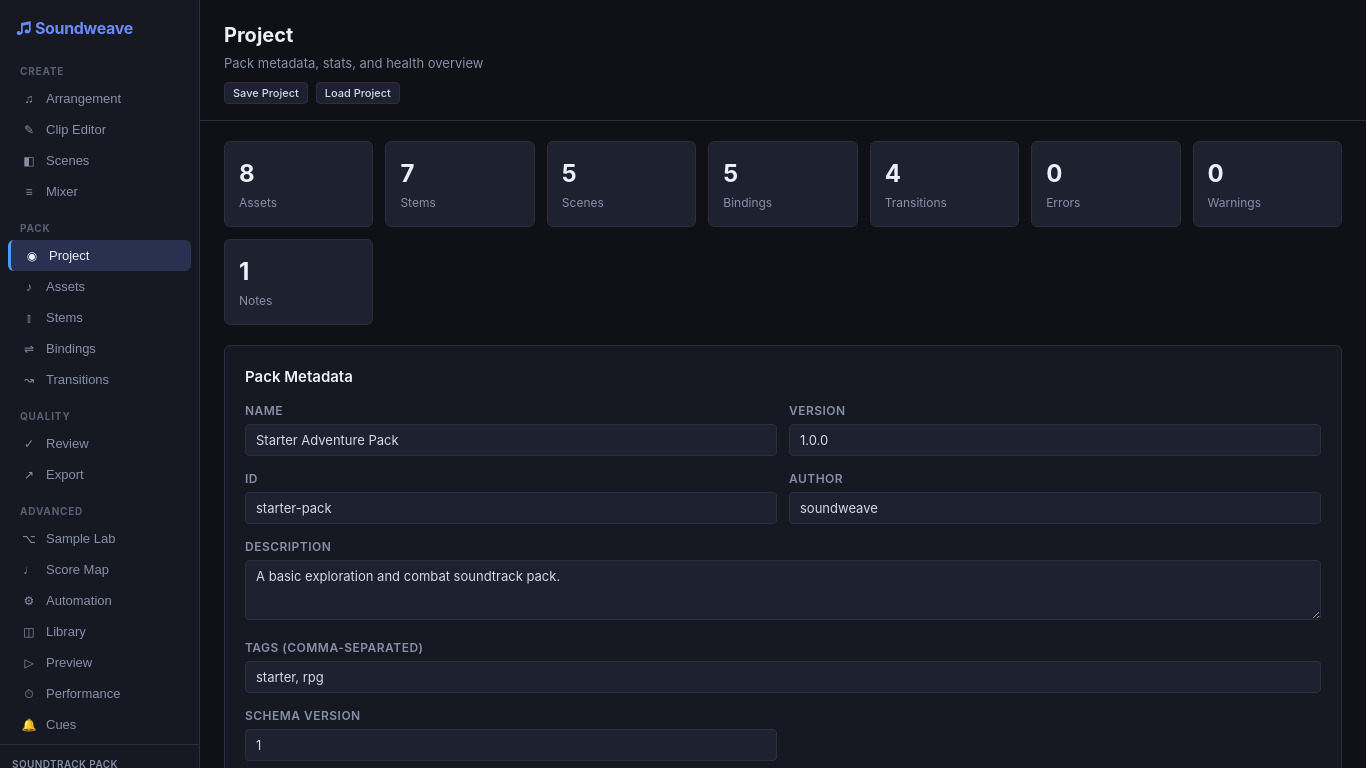
Test: KeyboardShortcutsOverlay › closes when clicking the backdrop
The width and height of the screenshot is (1366, 768).
Press ?
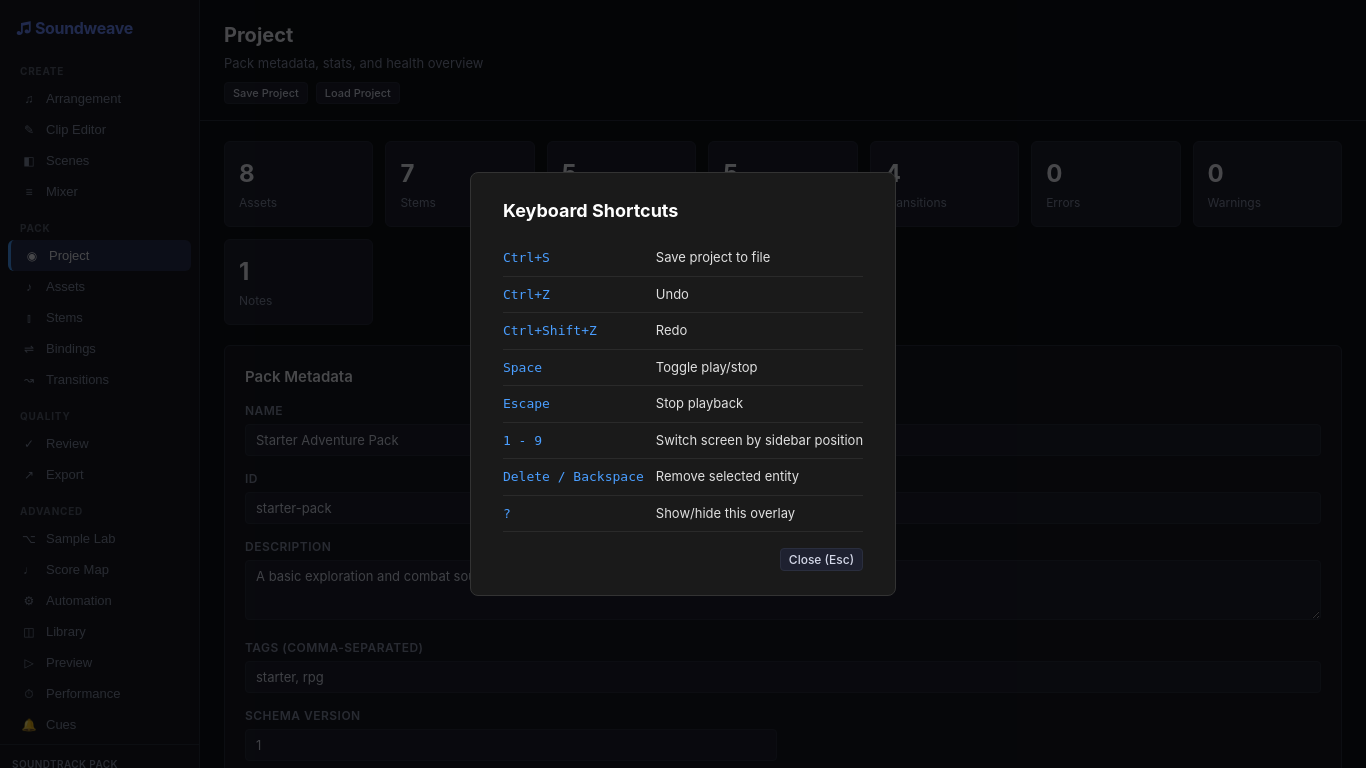
Click the element with class "shortcuts-overlay-backdrop" at (82, 384), box 0,0 -> 1365,767
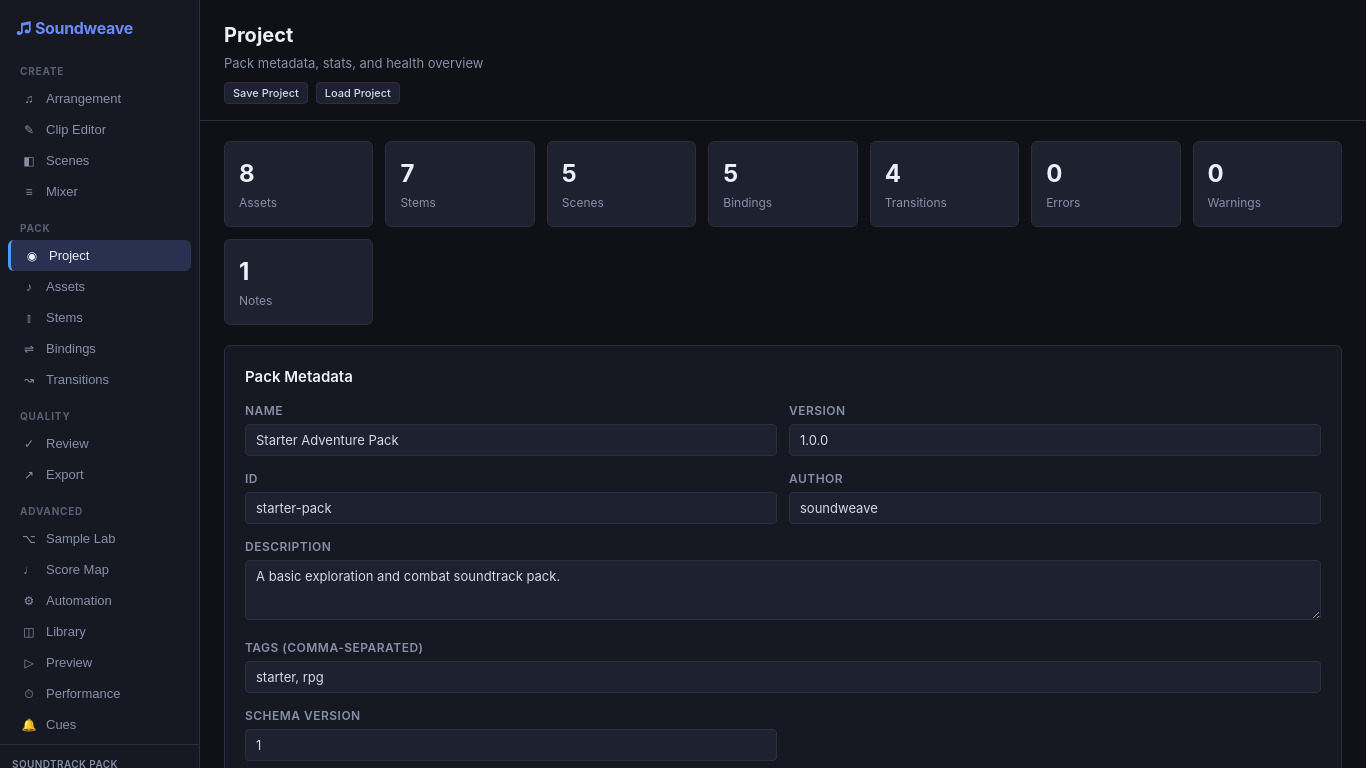
Expected: the heading "Keyboard Shortcuts" is gone
